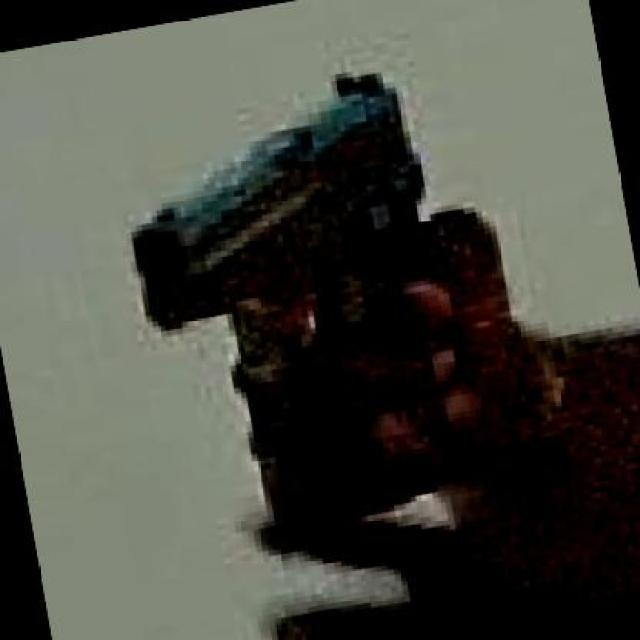rifle: (227, 264, 638, 638), (127, 54, 430, 348), (419, 171, 640, 355)
